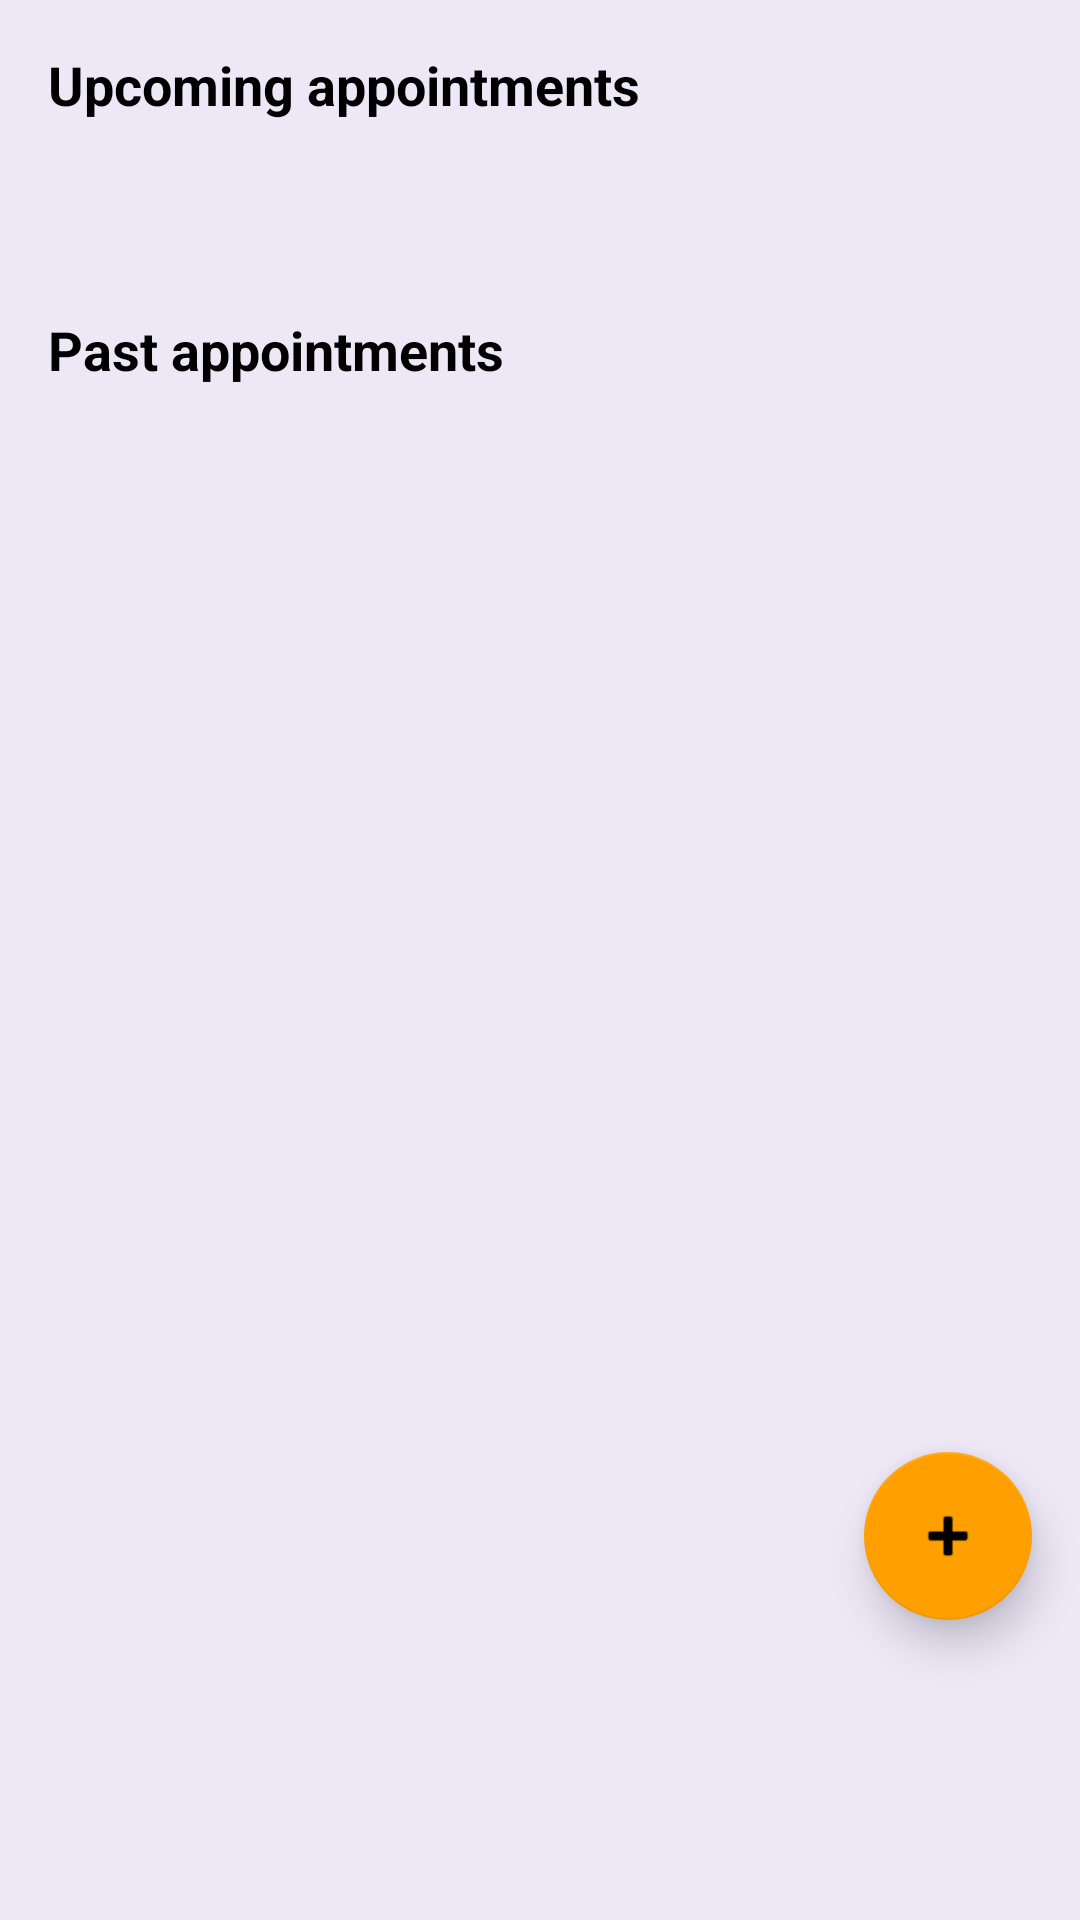

Icons on this 1080*1920 Android screen, each with its box as (x1, y1, x2, y2):
Add appointment: (864, 1452, 1032, 1620)
